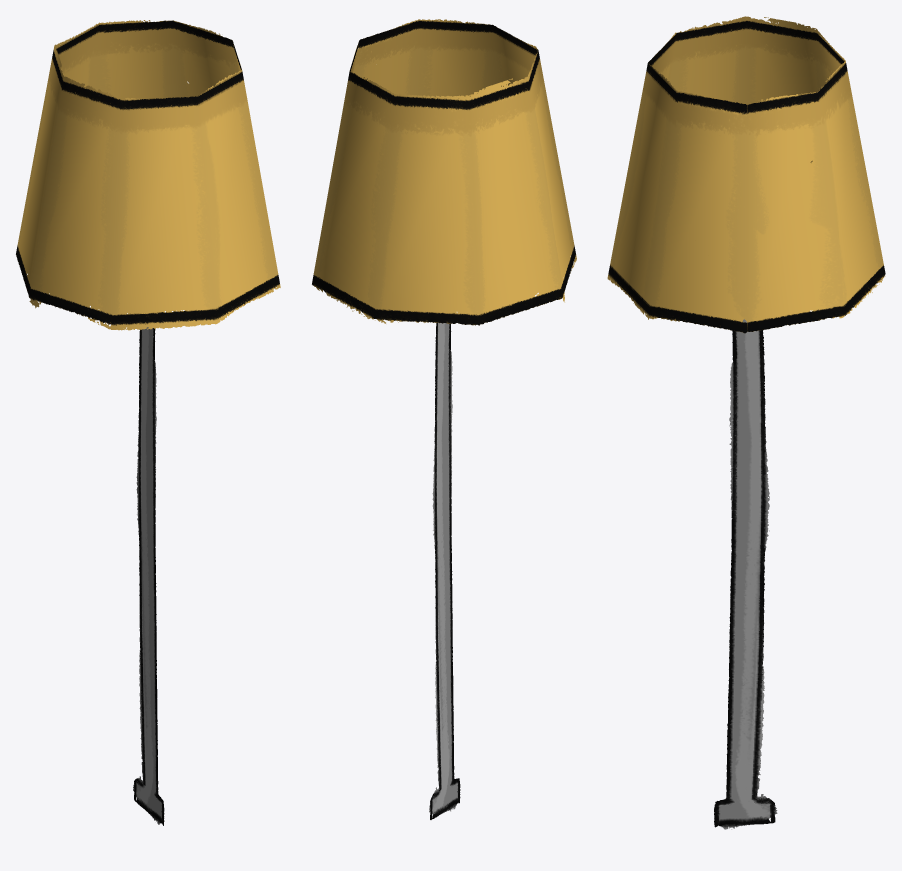
The model's file is MSH_Lampe.fbx.
3 renders of one model, left to right at view 1: azimuth 30°, elevation 25°; view 2: azimuth 150°, elevation 25°; view 3: azimuth 270°, elevation 25°, orthographic.
Visible parts, largest first — view 1: MSH_Lampe; view 2: MSH_Lampe; view 3: MSH_Lampe.
Boxes of the visible parts, bbox=[...] form: MSH_Lampe: bbox=[16, 20, 280, 825]; MSH_Lampe: bbox=[312, 19, 576, 819]; MSH_Lampe: bbox=[607, 16, 885, 829].
Bounding box in the file's own units: 0.6428 × 2.02 × 0.6428.
1 material, 1 textured.
